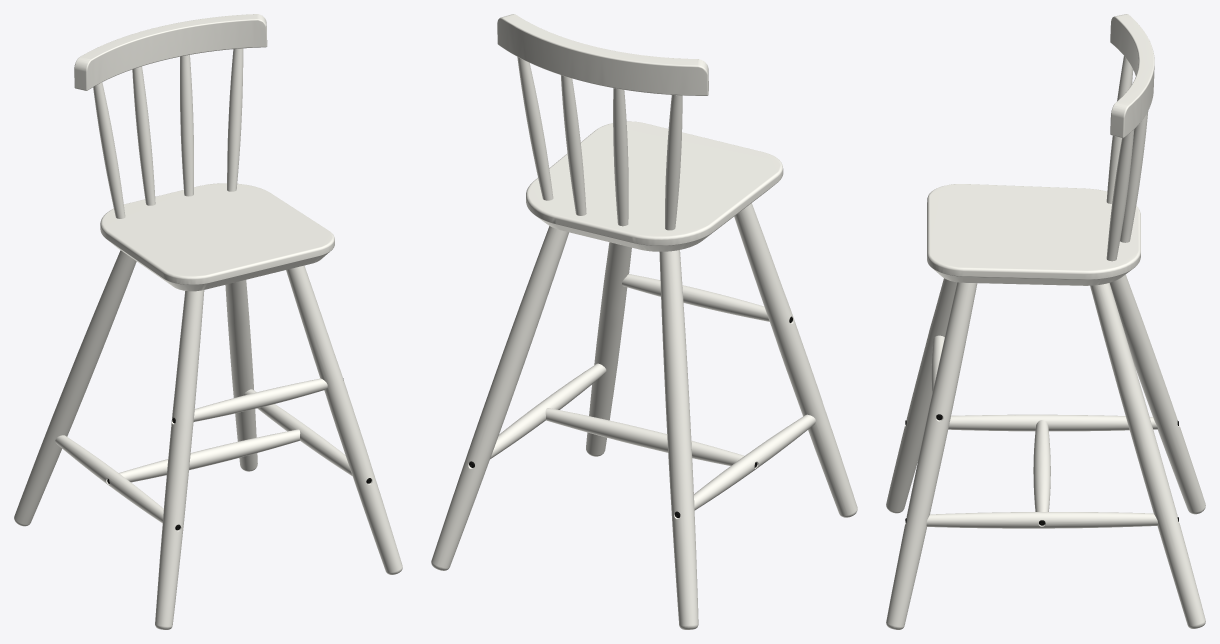
The model's file is 02 - AGAM Junior chair - white.glb.
3 renders of one model, left to right at view 1: azimuth 30°, elevation 25°; view 2: azimuth 150°, elevation 25°; view 3: azimuth 270°, elevation 25°, orthographic. The views are drawn at different scales.
Parts seen in each view (by area): view 1: Mesh_0; view 2: Mesh_0; view 3: Mesh_0.
Part boxes in pixels (left/top/right/bottom): Mesh_0: left=14, top=14, right=402, bottom=629; Mesh_0: left=431, top=14, right=857, bottom=629; Mesh_0: left=886, top=14, right=1205, bottom=629.
Size of the model in its own units: 0.411 by 0.7771 by 0.4409.
Materials: 1 (1 with a texture image).
